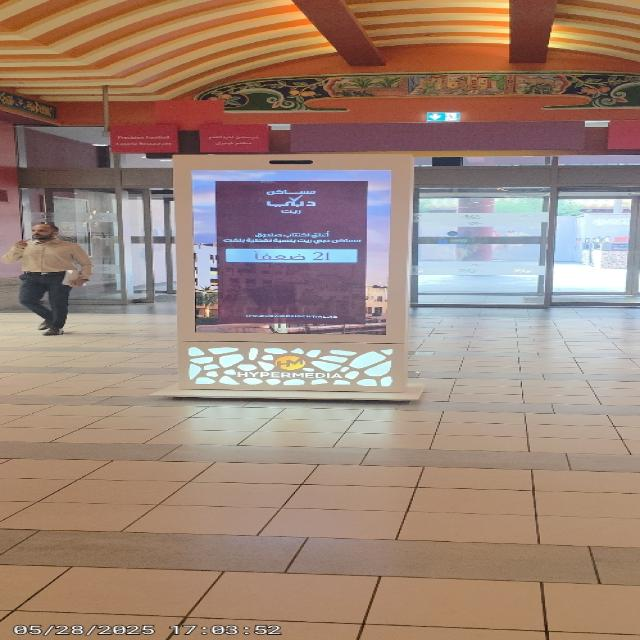mupi: (174, 151, 409, 391)
